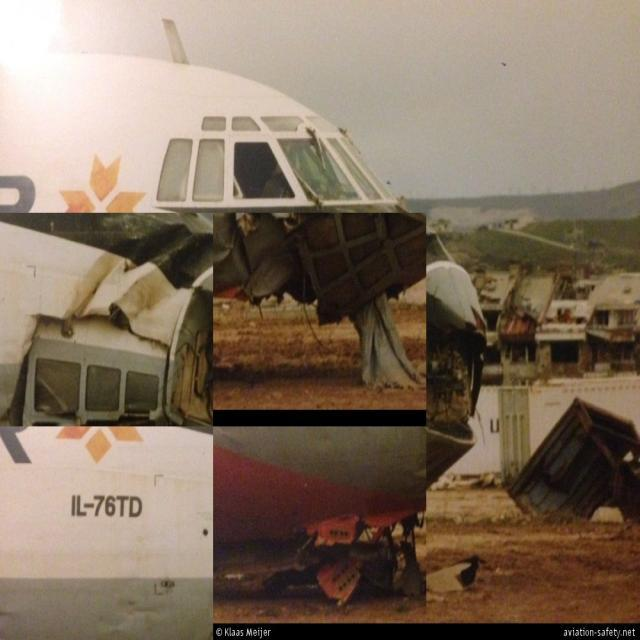dent: (416, 466, 428, 479)
